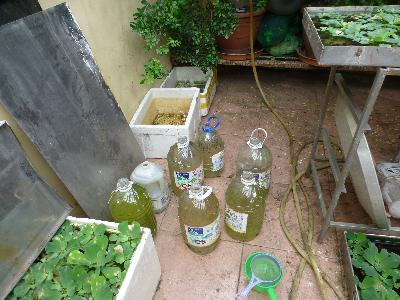bottle: (130, 160, 172, 215)
box: (336, 229, 399, 299)
bucket: (177, 180, 223, 259), (222, 169, 266, 244), (107, 176, 157, 239), (234, 127, 275, 201), (168, 135, 206, 196), (197, 114, 224, 180)
plate: (220, 46, 266, 60)
styrofoam: (2, 216, 162, 300), (302, 5, 400, 66), (127, 86, 200, 160), (160, 64, 217, 118)
